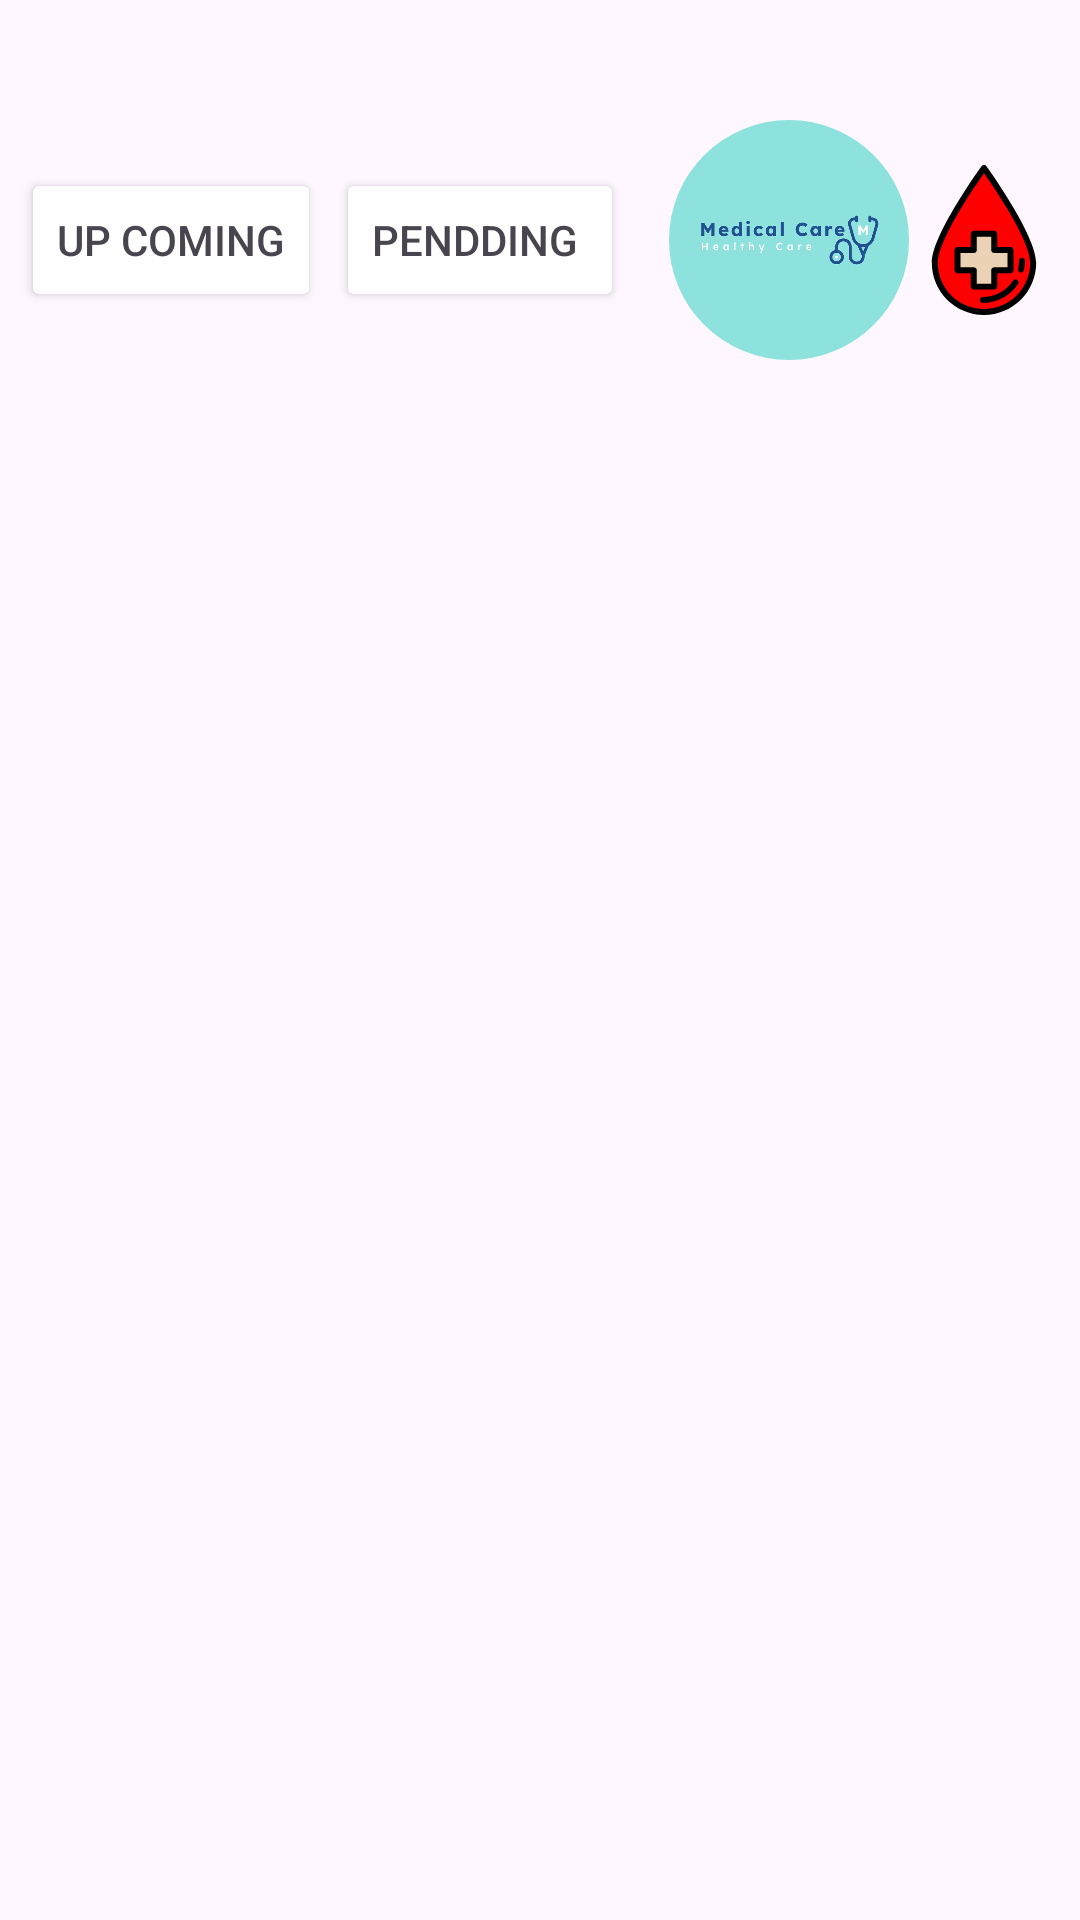

Icon bounding boxes for this 1080*1920 phone screenshot, format (x1, y1, x2, y2):
blood donation: (931, 165, 1037, 315)
